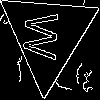W: (23, 11, 67, 62)
